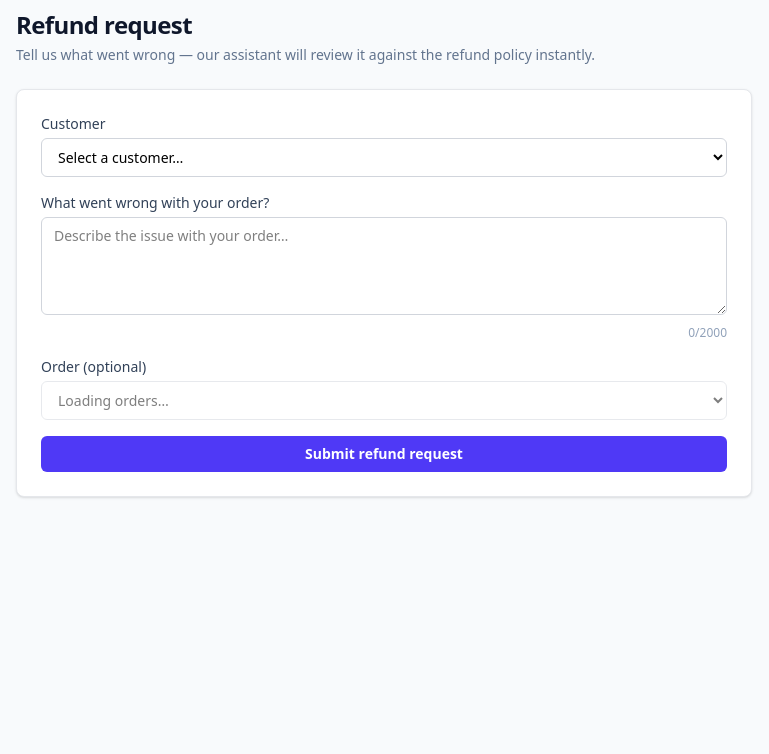
CustomerChat › submits the POST body and renders the response card
Select "Alice Brown (alice@example.com)" in the dropdown labelled "Customer" at (384, 158), box [41,138,727,177]
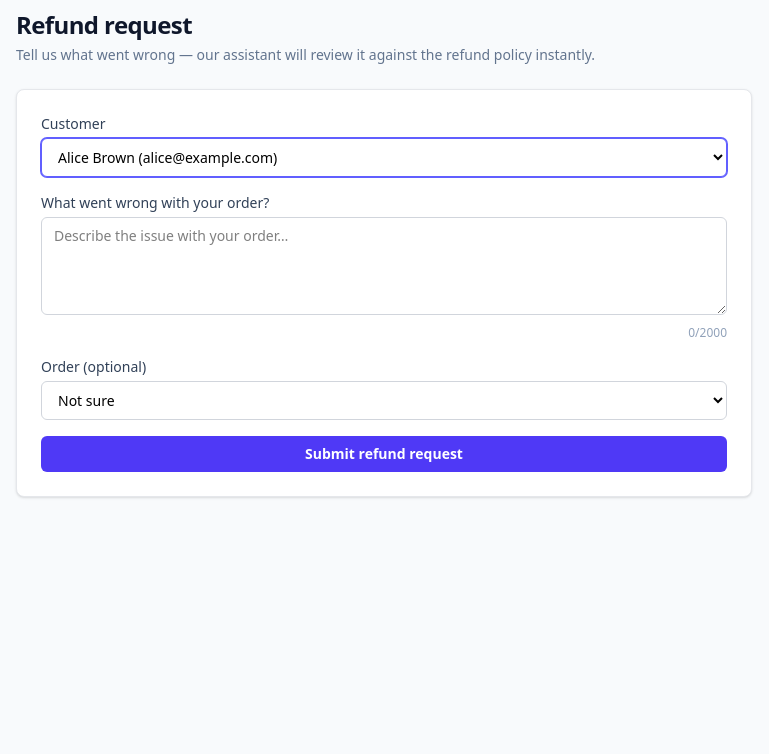
Select "Order #10" in the dropdown labelled "Order (optional)" at (384, 400), box [41,381,727,420]
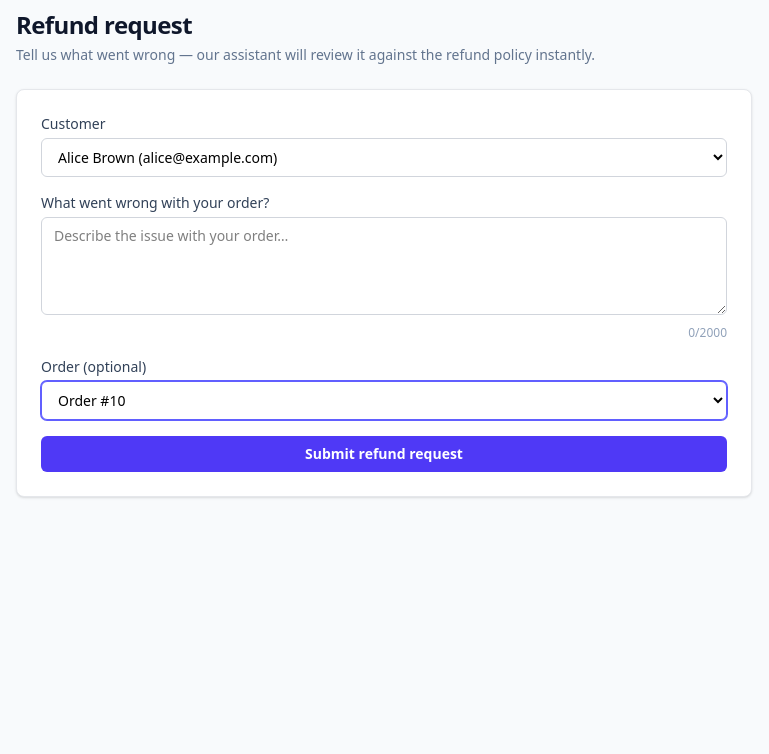
Type "Headphones arrived cracked" into the text box labelled "What went wrong with your order?".
click(384, 266); type("Headphones arrived cracked")  # box [41,217,727,315]
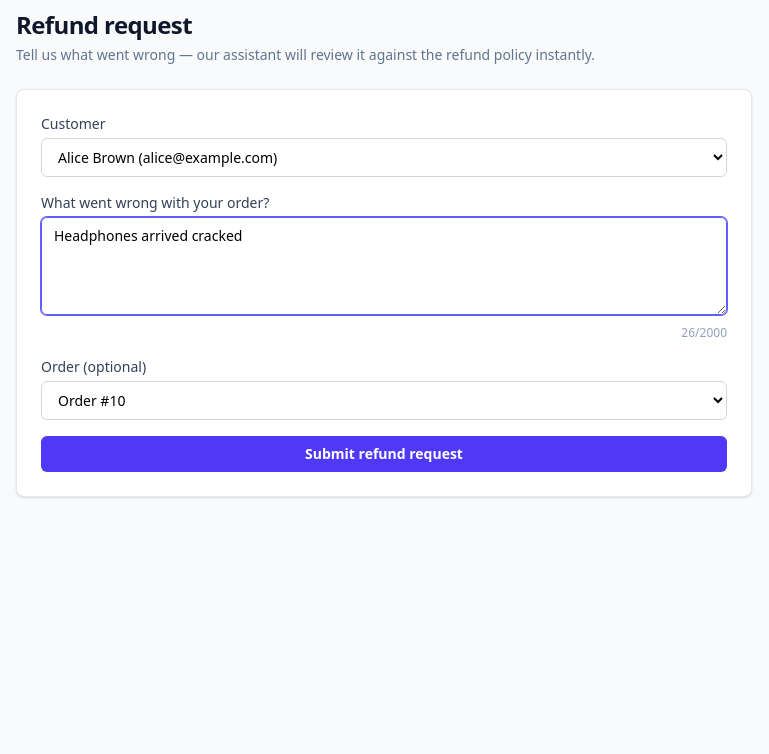
Click the button "Submit refund request".
click(384, 454)  # box [41,436,727,472]
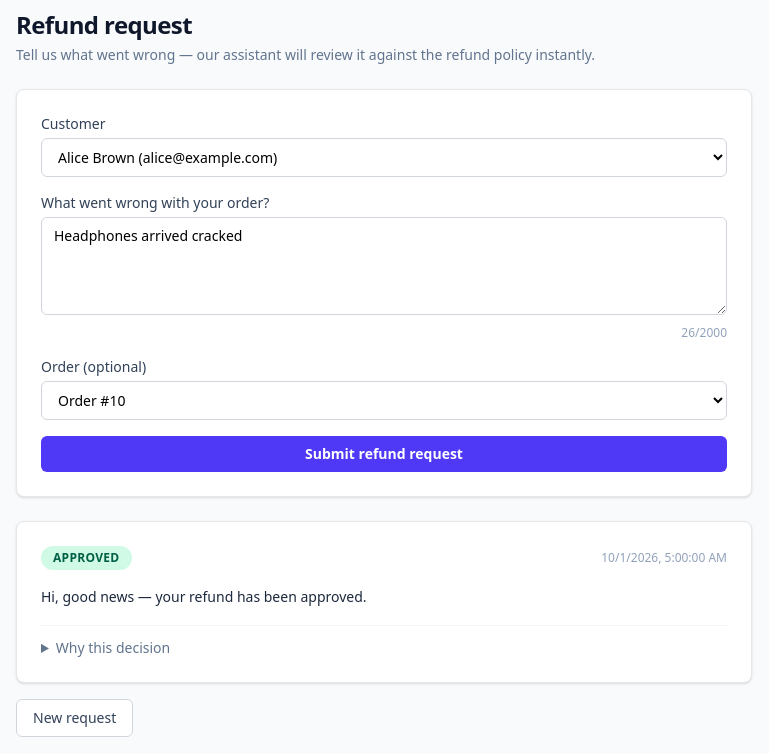
Now the text "Hi, good news — your refund has been approved." is shown, box [41,587,367,606]
Now the button "New request" is shown, box [16,699,133,737]
